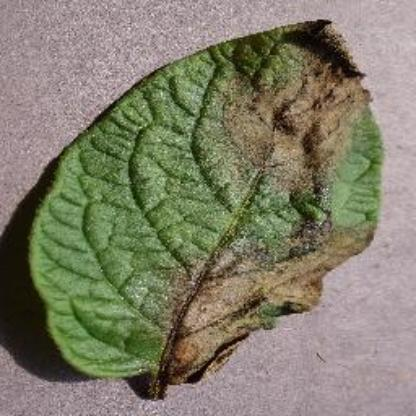Late-Blight: (13, 17, 395, 390)
